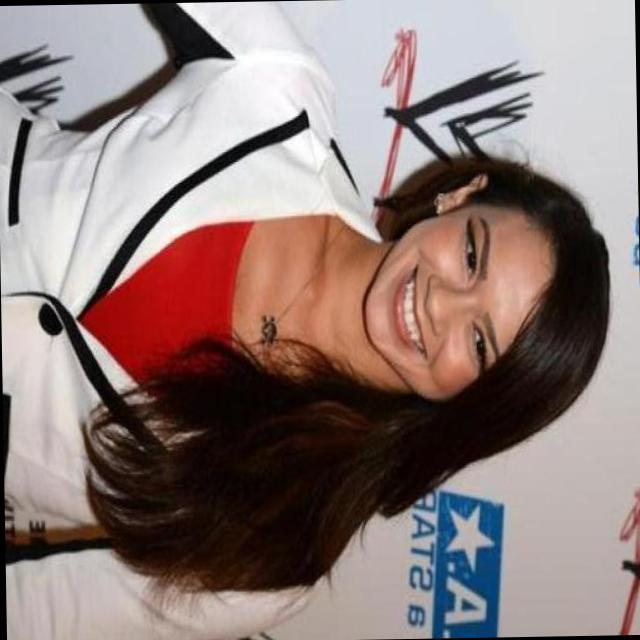bareface: (370, 208, 572, 422)
